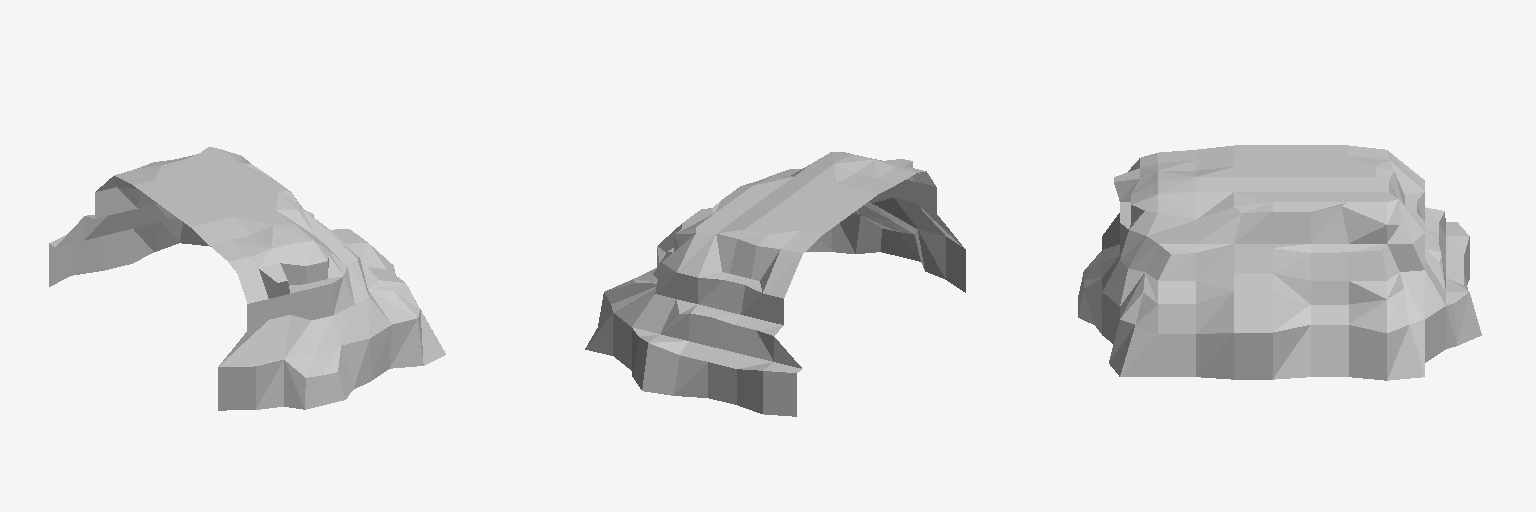
Rendered from mLv1Mountain06.obj.
3 views of the same model, side by side, from view 1: azimuth 30°, elevation 25°; view 2: azimuth 150°, elevation 25°; view 3: azimuth 270°, elevation 25° (orthographic).
Parts seen in each view (by area): view 1: mMountain07; view 2: mMountain07; view 3: mMountain07.
Part boxes in pixels (left/top/right/bottom): mMountain07: left=49, top=147, right=445, bottom=410; mMountain07: left=585, top=152, right=965, bottom=416; mMountain07: left=1078, top=145, right=1481, bottom=380.
Size of the model in its own units: 39.22 by 21.39 by 58.24.